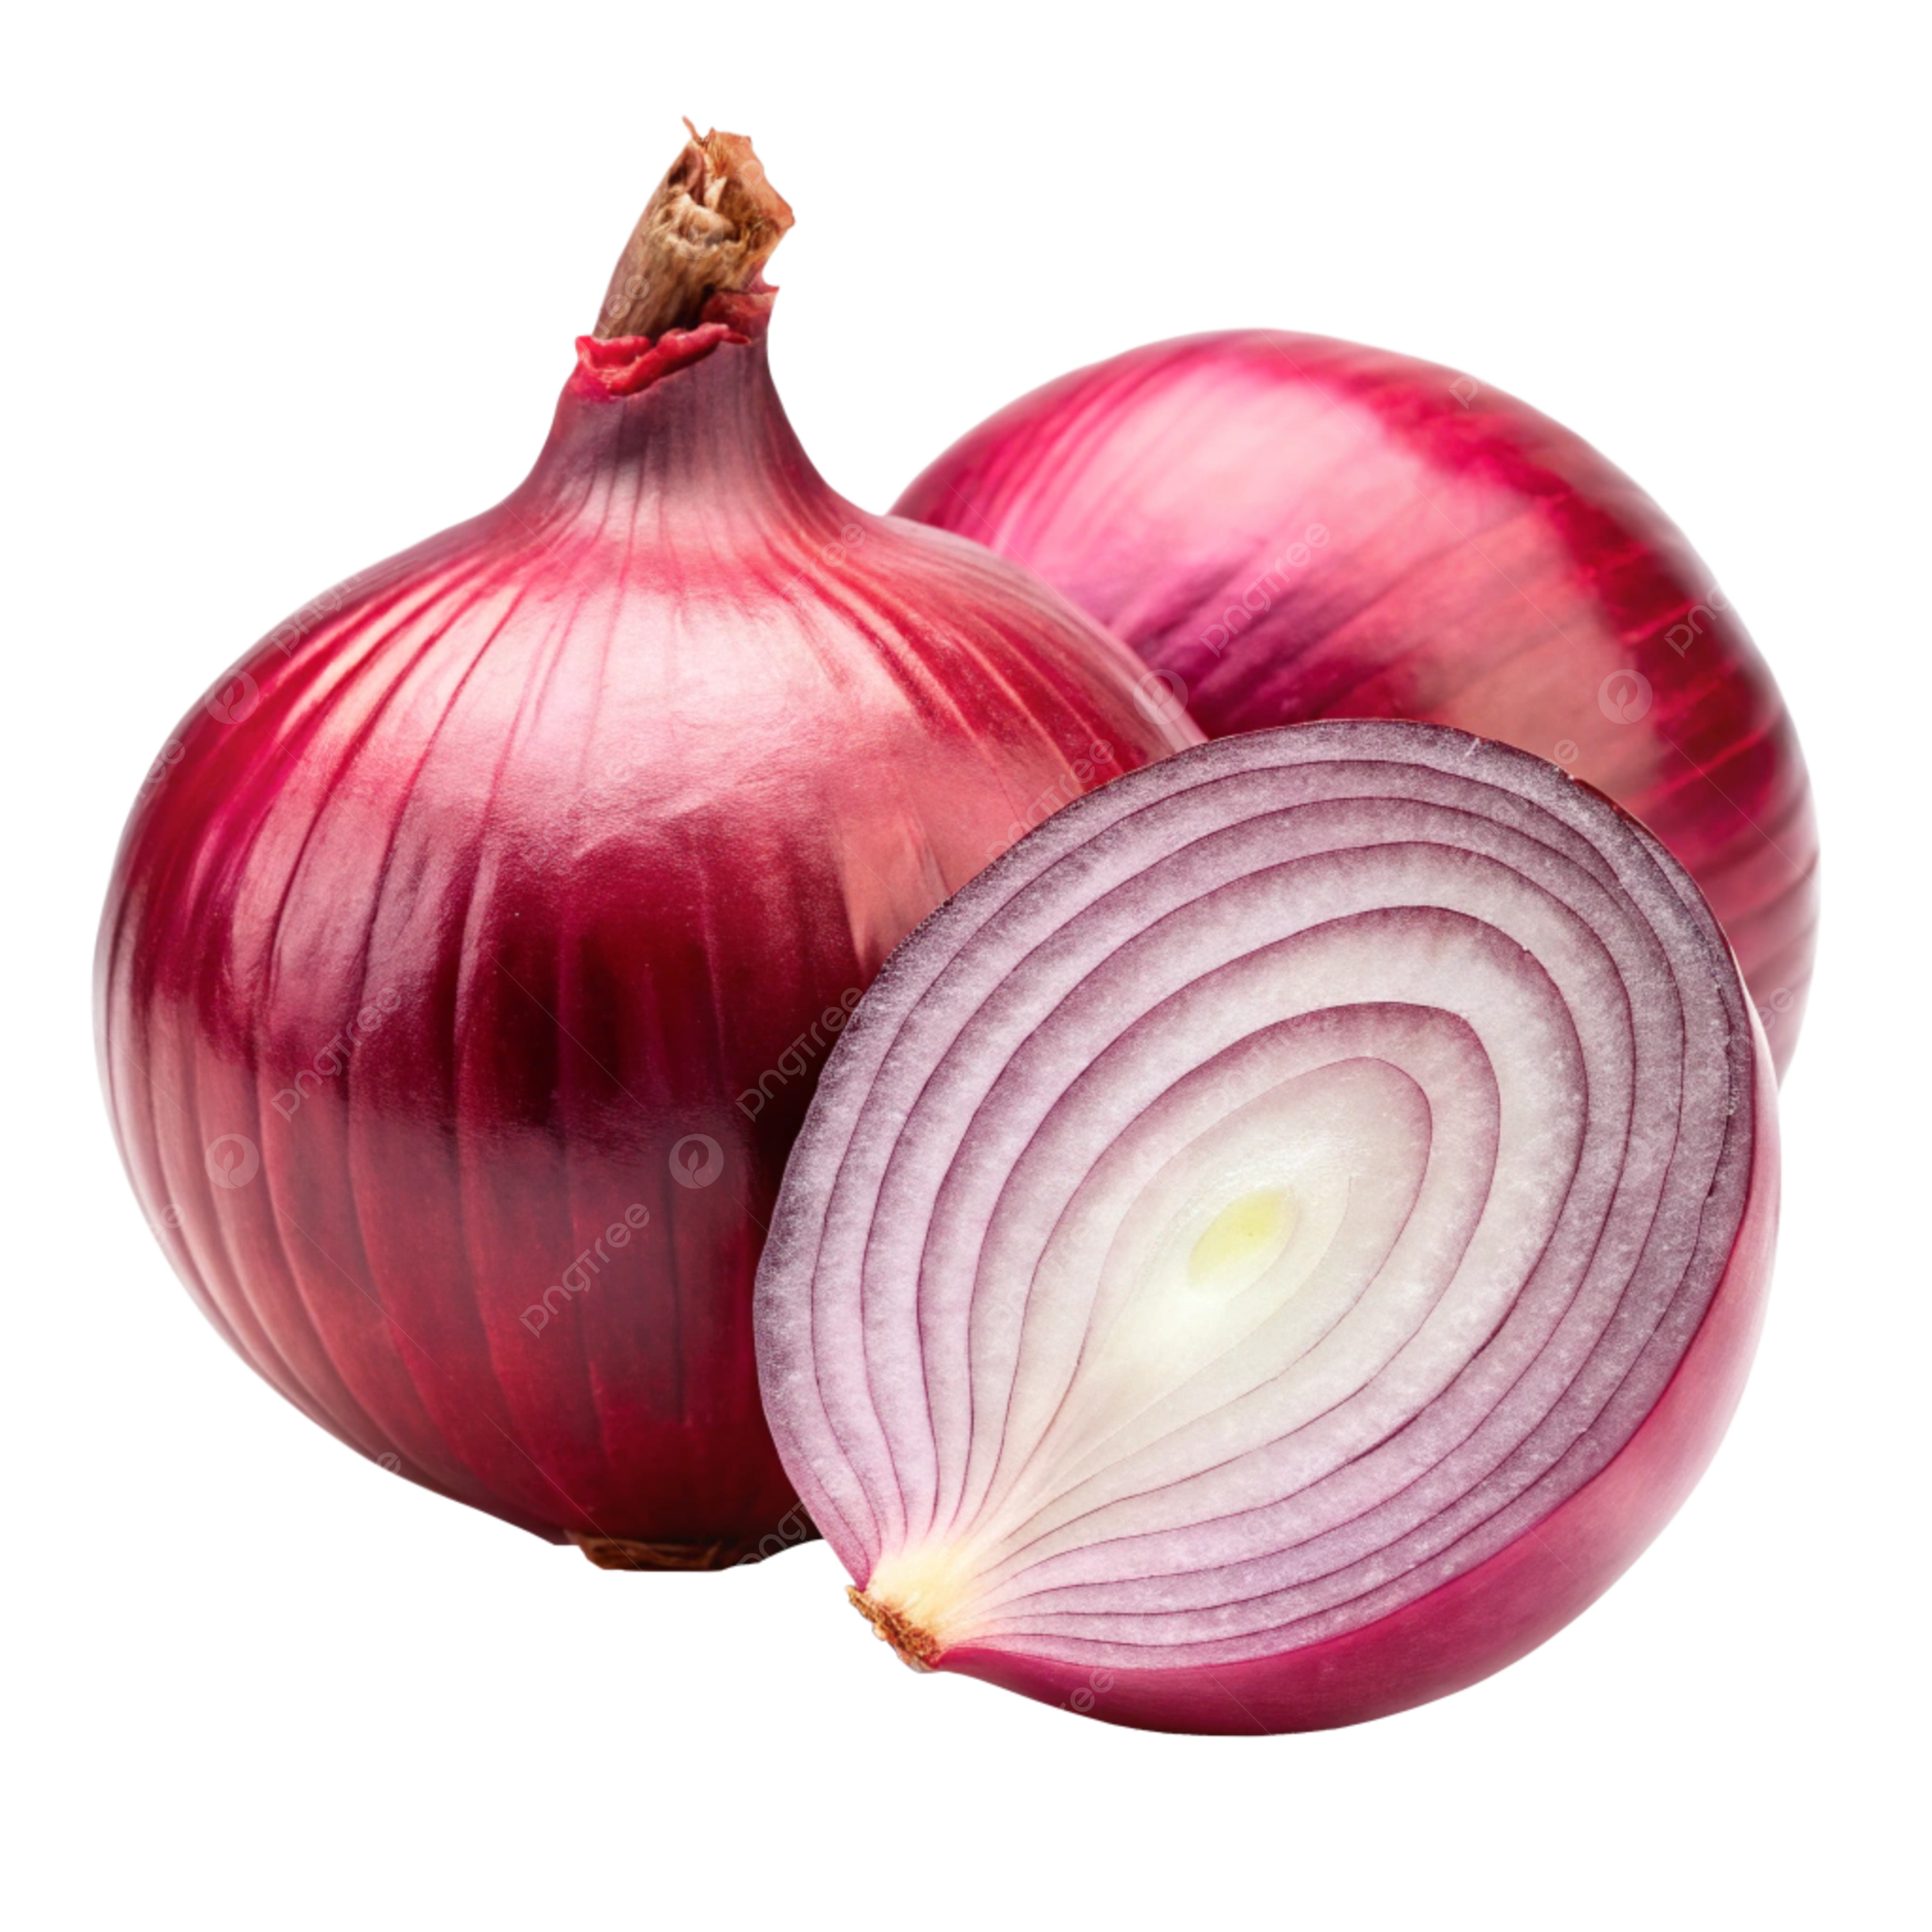onion: (67, 73, 1932, 1897)
